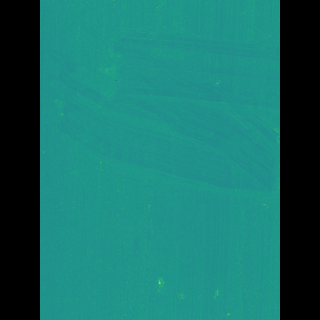Loch: (75, 20, 251, 204)
